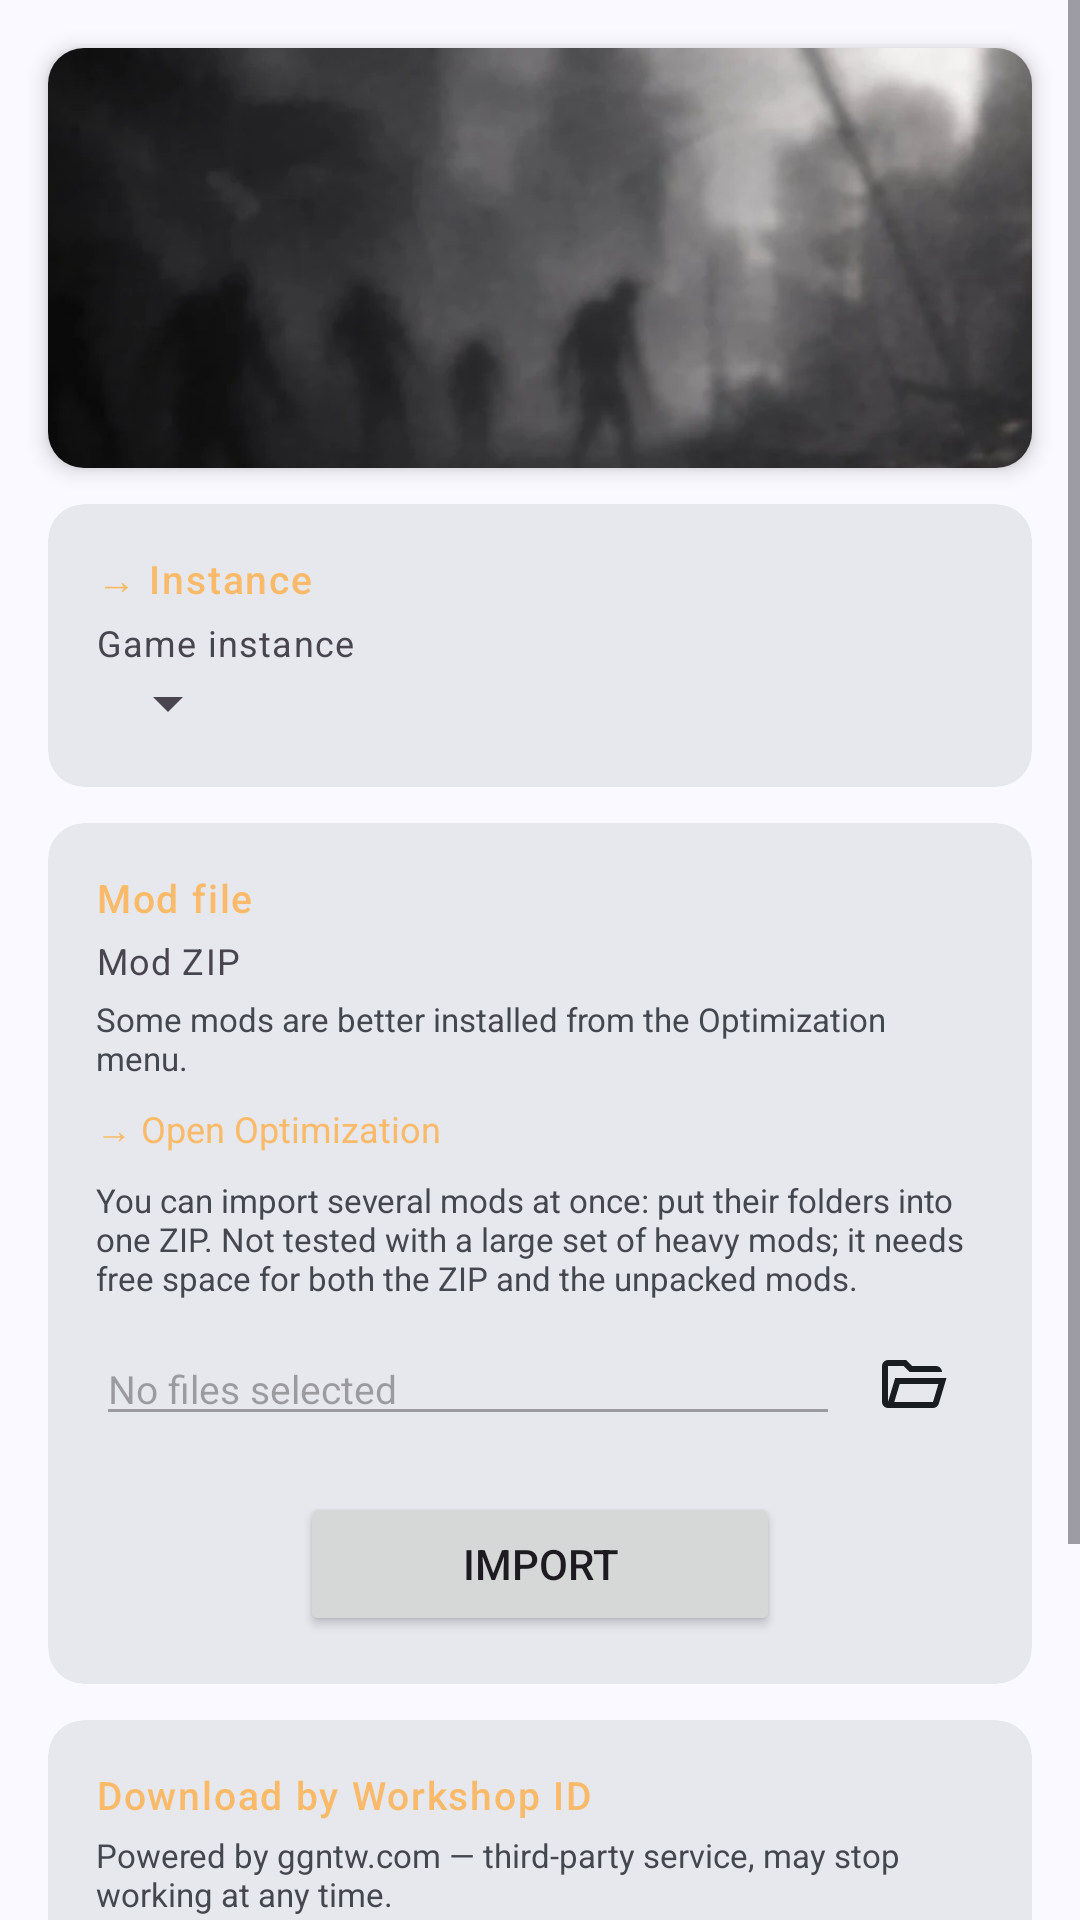

Screen size 1080x1920. Icon name, then its center in pixels as point (x, y):
folder open: point (914, 1384)
